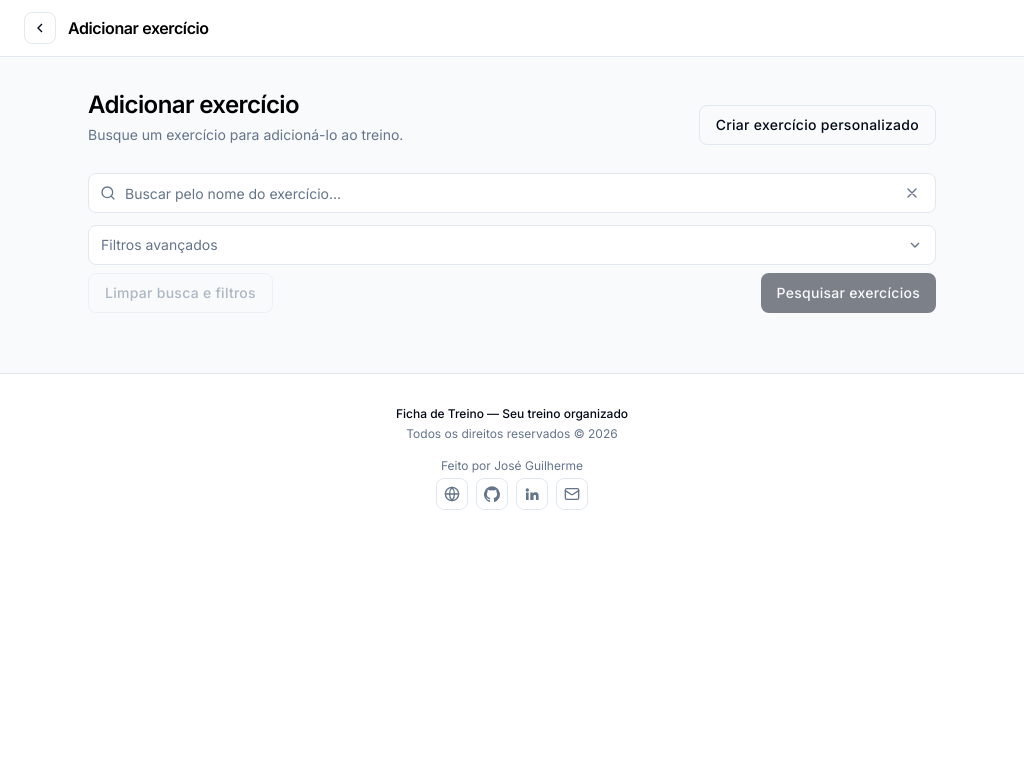
it: AddExercisePage › clears draft filters and restores focus from the fixed action bar
Click the button with aria-label "Mais filtros" at (159, 244), box [88, 225, 936, 265]
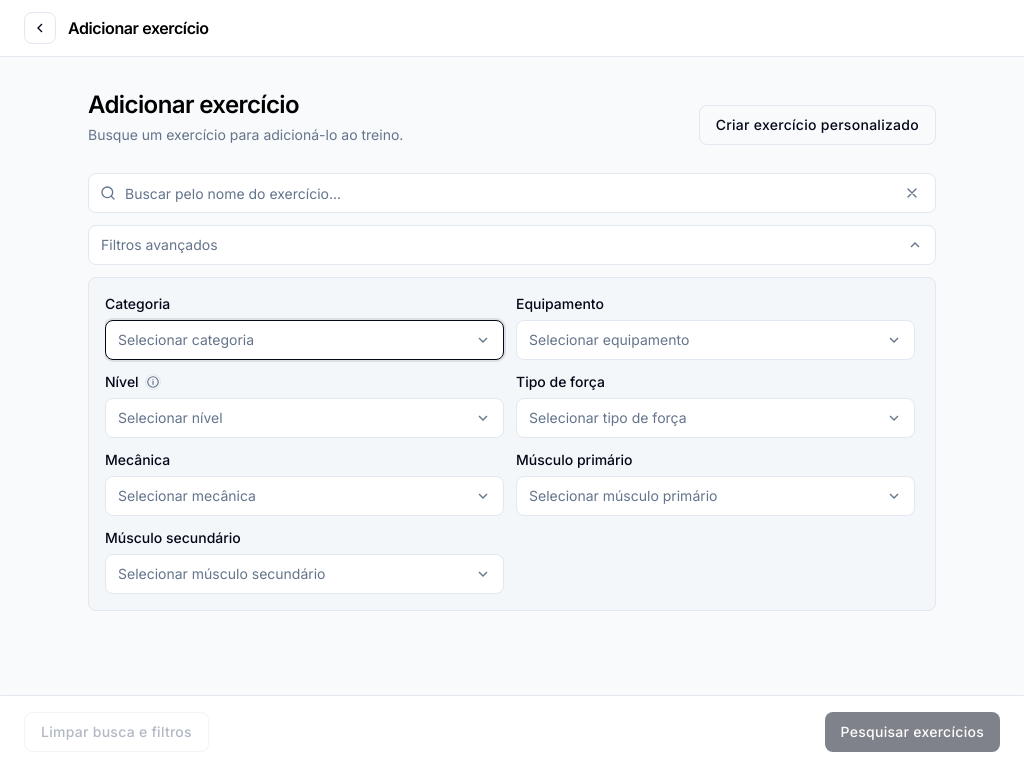
Click the dropdown labelled "categoria" at (186, 340), box [105, 320, 504, 360]
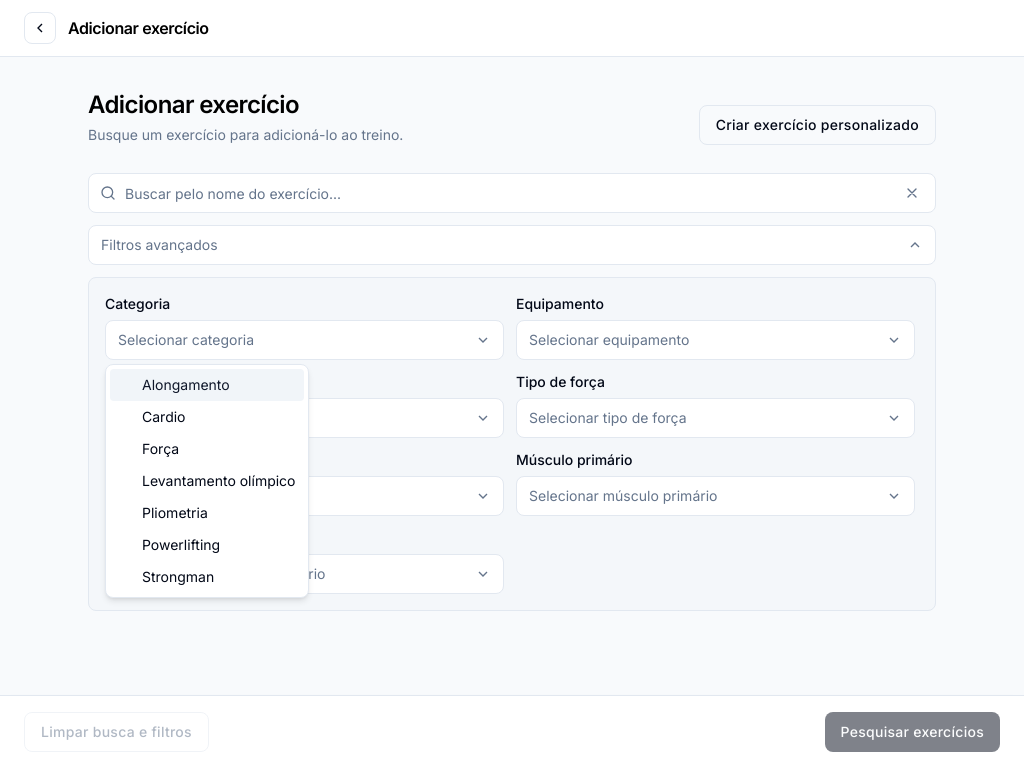
Click the option "Força" at (161, 448), box [142, 440, 179, 457]
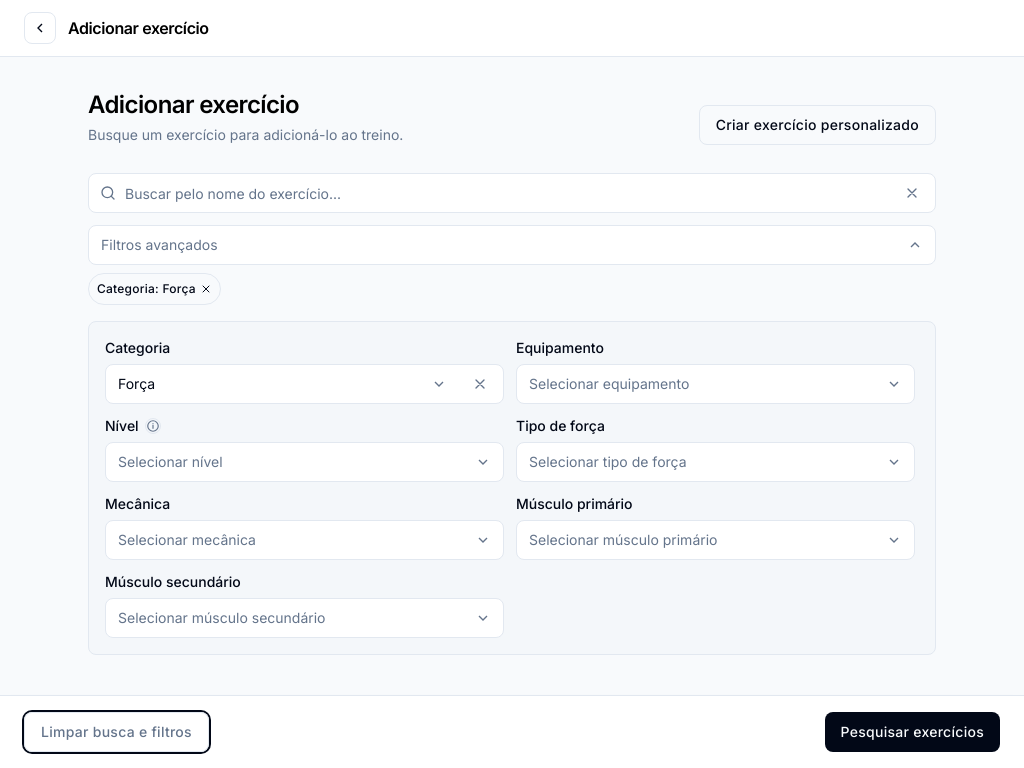
Press Enter
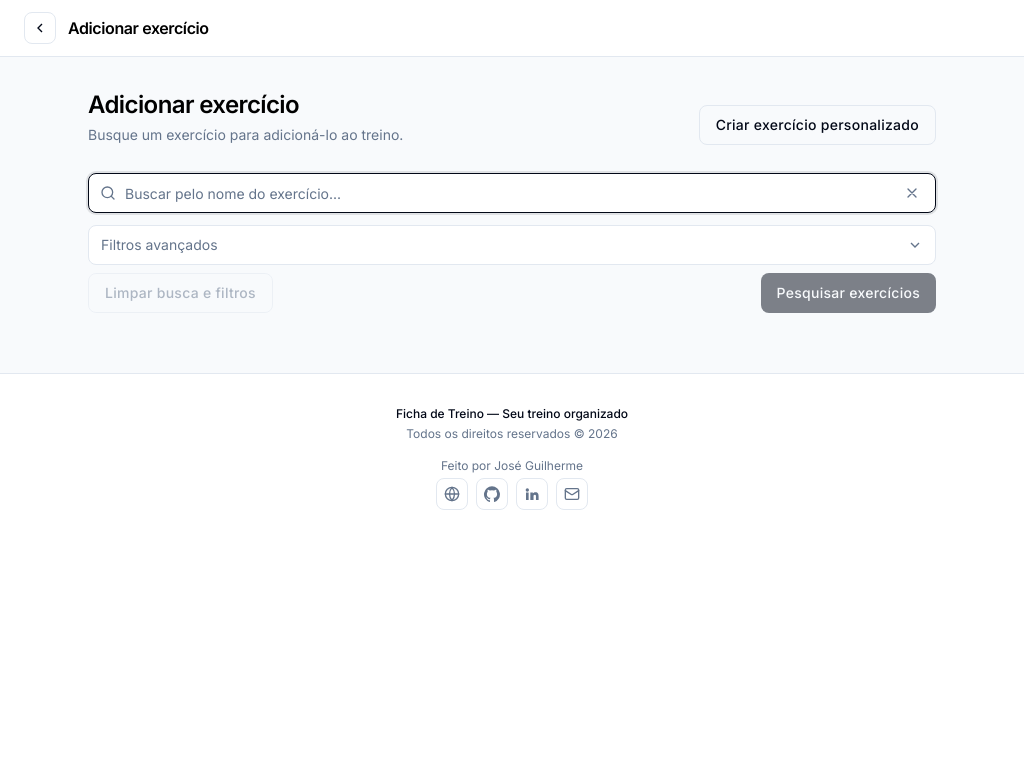
Check: the button with aria-label "Mais filtros" is collapsed, box [88, 225, 936, 265]
Check: the button "Remover filtro Categoria" is gone
